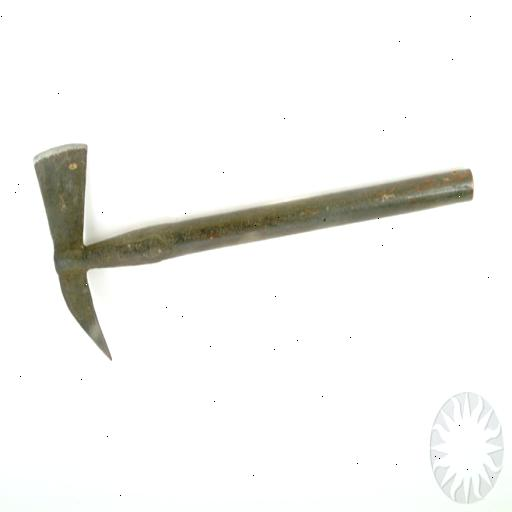Axe: (30, 139, 476, 363)
